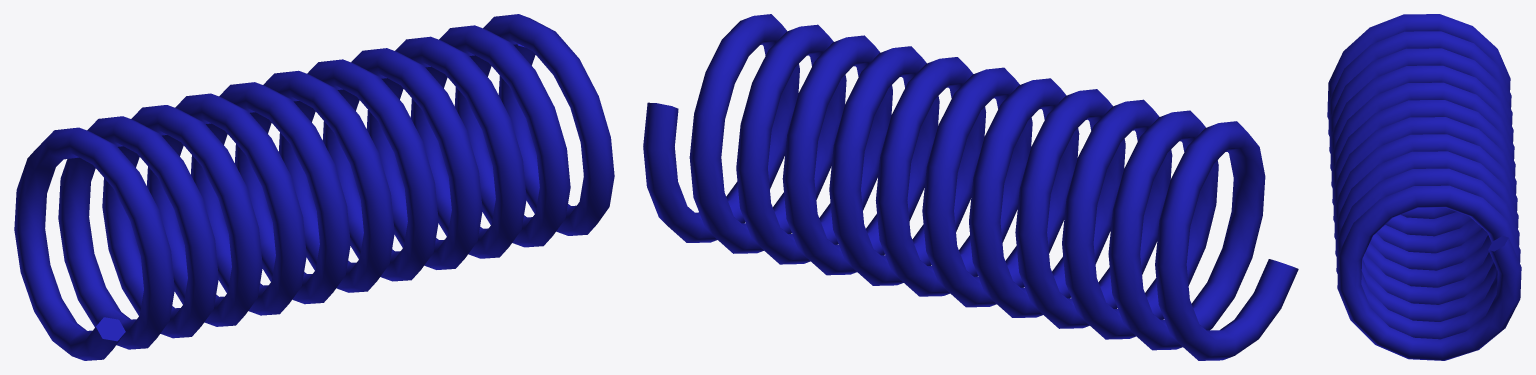
Rendered from spring.obj.
3 renders of one model, left to right at view 1: azimuth 30°, elevation 25°; view 2: azimuth 150°, elevation 25°; view 3: azimuth 270°, elevation 25°, orthographic. The views are drawn at different scales.
Parts seen in each view (by area): view 1: Spring001; view 2: Spring001; view 3: Spring001.
Part boxes in pixels (x1=…): Spring001: x1=14, y1=14, x2=614, y2=360; Spring001: x1=643, y1=14, x2=1298, y2=360; Spring001: x1=1327, y1=14, x2=1521, y2=360.
Size of the model in its own units: 23.43 by 8.87 by 9.38.
